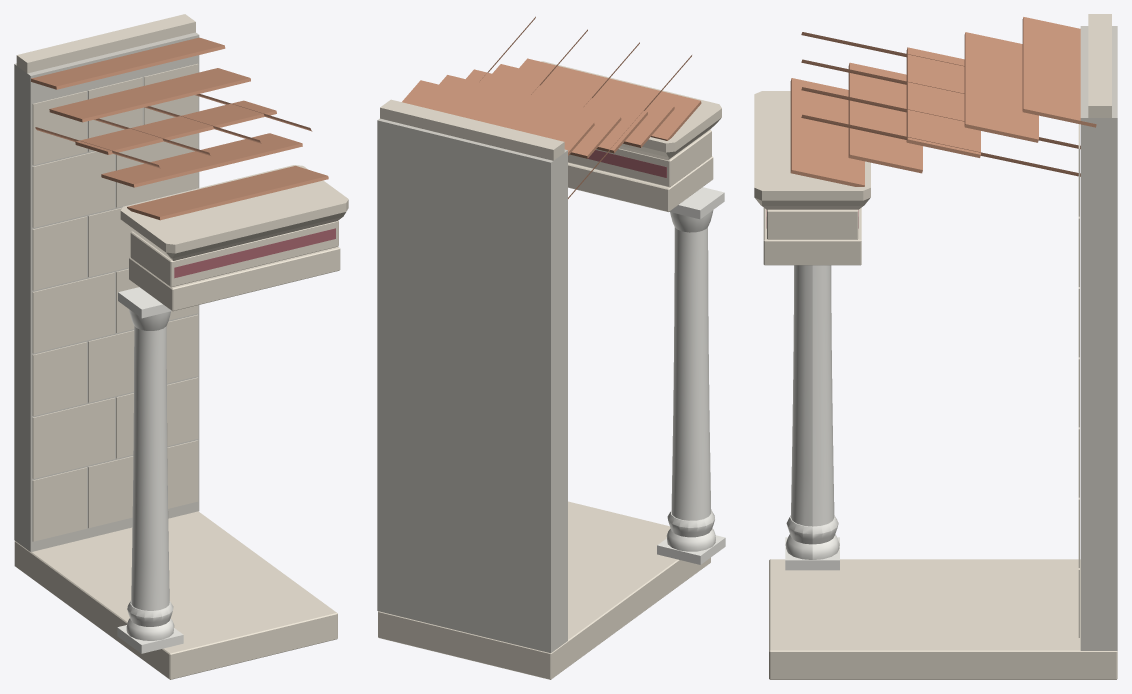
The model's file is roman-bathhouse-and-palaestra-colonnade-portico-run-c1c2799a__37864.glb.
3 views of the same model, side by side, from view 1: azimuth 30°, elevation 25°; view 2: azimuth 150°, elevation 25°; view 3: azimuth 270°, elevation 25° (orthographic). The views are drawn at different scales.
Visible parts, largest first — view 1: colonnade-portico-run; view 2: colonnade-portico-run; view 3: colonnade-portico-run.
Part boxes in pixels (x1,y1,x2,y2): colonnade-portico-run: (14,14,348,679); colonnade-portico-run: (377,16,725,679); colonnade-portico-run: (754,14,1117,679).
Size of the model in its own units: 2.33 by 5.82 by 3.34.
